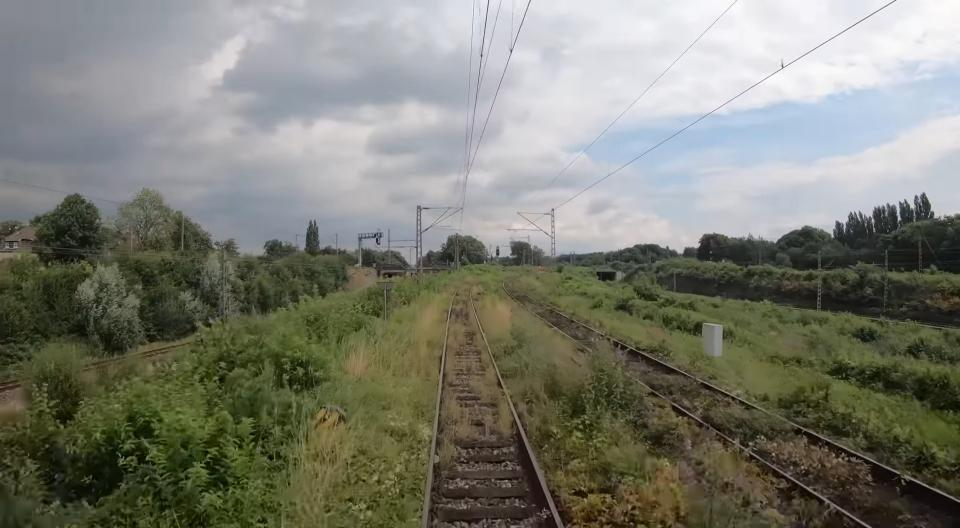Plant: (530, 281, 960, 498), (474, 283, 844, 528), (286, 275, 460, 528), (634, 367, 882, 523), (504, 280, 601, 337)
